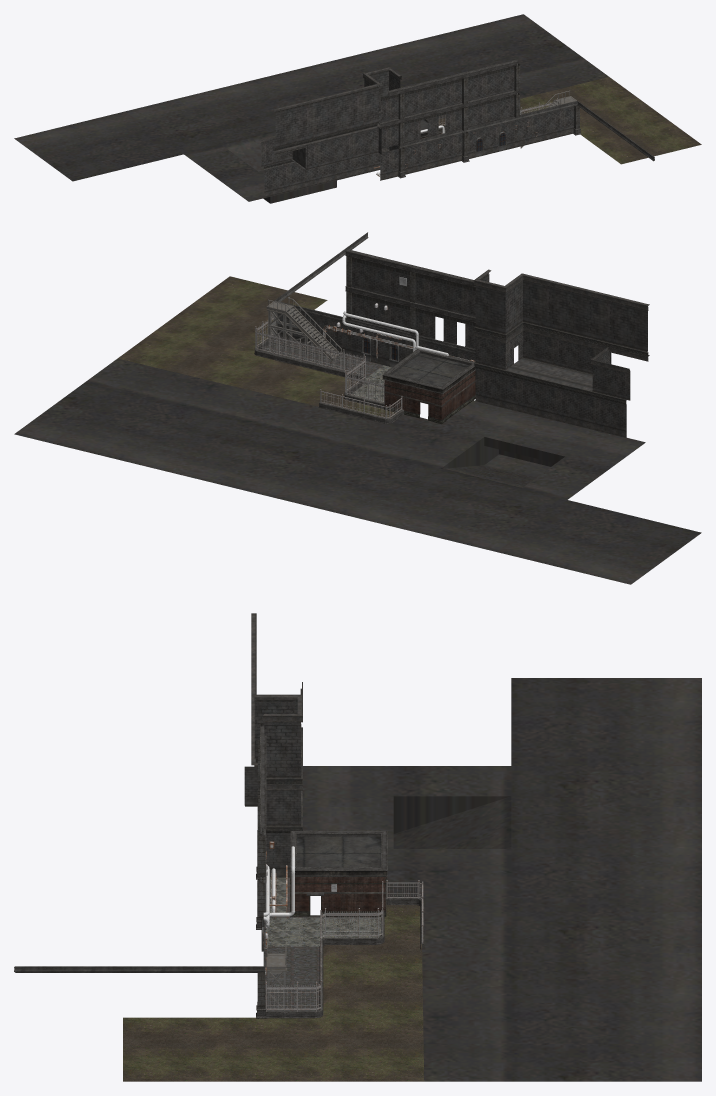
File: st4_211_0_terrain_00ms.fbx
3 views of the same model, one above another, from view 1: azimuth 30°, elevation 25°; view 2: azimuth 150°, elevation 25°; view 3: azimuth 270°, elevation 25° (orthographic). The views are drawn at different scales.
Parts seen in each view (by area): view 1: LOD_1_Group_0_Sub_6__st1_townAsphalt00_Mat, LOD_1_Group_0_Sub_3__st1_townPolice01_Mat, LOD_1_Group_0_Sub_7__st1_townGround01_Mat, LOD_1_Group_0_Sub_5__st1_townPolice00_Mat; view 2: LOD_1_Group_0_Sub_6__st1_townAsphalt00_Mat, LOD_1_Group_0_Sub_3__st1_townPolice01_Mat, LOD_1_Group_0_Sub_7__st1_townGround01_Mat, LOD_1_Group_0_Sub_5__st1_townPolice00_Mat, LOD_1_Group_0_Sub_2__st1_townPoliceFence01_Mat, LOD_1_Group_0_Sub_4__st1_townBuild01_Mat, LOD_1_Group_0_Sub_12__st2_police1fRightStairs02, LOD_1_Group_0_Sub_10__st1_townGround00_Mat, LOD_1_Group_0_Sub_9__st1_townGround02_Mat, LOD_1_Group_0_Sub_13__st1_townParts01_Mat, LOD_1_Group_0_Sub_8__st2_police1fRightFloor05; view 3: LOD_1_Group_0_Sub_6__st1_townAsphalt00_Mat, LOD_1_Group_0_Sub_7__st1_townGround01_Mat, LOD_1_Group_0_Sub_3__st1_townPolice01_Mat, LOD_1_Group_0_Sub_5__st1_townPolice00_Mat, LOD_1_Group_0_Sub_4__st1_townBuild01_Mat, LOD_1_Group_0_Sub_8__st2_police1fRightFloor05, LOD_1_Group_0_Sub_9__st1_townGround02_Mat, LOD_1_Group_0_Sub_10__st1_townGround00_Mat, LOD_1_Group_0_Sub_2__st1_townPoliceFence01_Mat, LOD_1_Group_0_Sub_13__st1_townParts01_Mat, LOD_1_Group_0_Sub_12__st2_police1fRightStairs02.
Boxes of the visible parts, bbox=[...] form: LOD_1_Group_0_Sub_6__st1_townAsphalt00_Mat: bbox=[14, 14, 608, 203]; LOD_1_Group_0_Sub_3__st1_townPolice01_Mat: bbox=[260, 66, 577, 197]; LOD_1_Group_0_Sub_7__st1_townGround01_Mat: bbox=[438, 77, 701, 164]; LOD_1_Group_0_Sub_5__st1_townPolice00_Mat: bbox=[379, 59, 654, 178]; LOD_1_Group_0_Sub_6__st1_townAsphalt00_Mat: bbox=[14, 358, 701, 584]; LOD_1_Group_0_Sub_3__st1_townPolice01_Mat: bbox=[279, 257, 649, 437]; LOD_1_Group_0_Sub_7__st1_townGround01_Mat: bbox=[118, 276, 396, 417]; LOD_1_Group_0_Sub_5__st1_townPolice00_Mat: bbox=[254, 232, 475, 423]; LOD_1_Group_0_Sub_2__st1_townPoliceFence01_Mat: bbox=[255, 315, 402, 418]; LOD_1_Group_0_Sub_4__st1_townBuild01_Mat: bbox=[382, 367, 475, 424]; LOD_1_Group_0_Sub_12__st2_police1fRightStairs02: bbox=[266, 297, 342, 361]; LOD_1_Group_0_Sub_10__st1_townGround00_Mat: bbox=[391, 353, 469, 386]; LOD_1_Group_0_Sub_9__st1_townGround02_Mat: bbox=[260, 340, 383, 377]; LOD_1_Group_0_Sub_13__st1_townParts01_Mat: bbox=[323, 311, 475, 361]; LOD_1_Group_0_Sub_8__st2_police1fRightFloor05: bbox=[350, 365, 391, 403]; LOD_1_Group_0_Sub_6__st1_townAsphalt00_Mat: bbox=[303, 678, 701, 1081]; LOD_1_Group_0_Sub_7__st1_townGround01_Mat: bbox=[123, 905, 424, 1081]; LOD_1_Group_0_Sub_3__st1_townPolice01_Mat: bbox=[244, 613, 302, 877]; LOD_1_Group_0_Sub_5__st1_townPolice00_Mat: bbox=[14, 726, 424, 1018]; LOD_1_Group_0_Sub_4__st1_townBuild01_Mat: bbox=[290, 871, 387, 916]; LOD_1_Group_0_Sub_8__st2_police1fRightFloor05: bbox=[265, 877, 380, 946]; LOD_1_Group_0_Sub_9__st1_townGround02_Mat: bbox=[265, 877, 380, 1010]; LOD_1_Group_0_Sub_10__st1_townGround00_Mat: bbox=[297, 836, 381, 867]; LOD_1_Group_0_Sub_2__st1_townPoliceFence01_Mat: bbox=[265, 880, 423, 1011]; LOD_1_Group_0_Sub_13__st1_townParts01_Mat: bbox=[263, 841, 295, 975]; LOD_1_Group_0_Sub_12__st2_police1fRightStairs02: bbox=[263, 945, 287, 1010].
Bounding box in the file's own units: 88.01 × 20.34 × 63.38.
